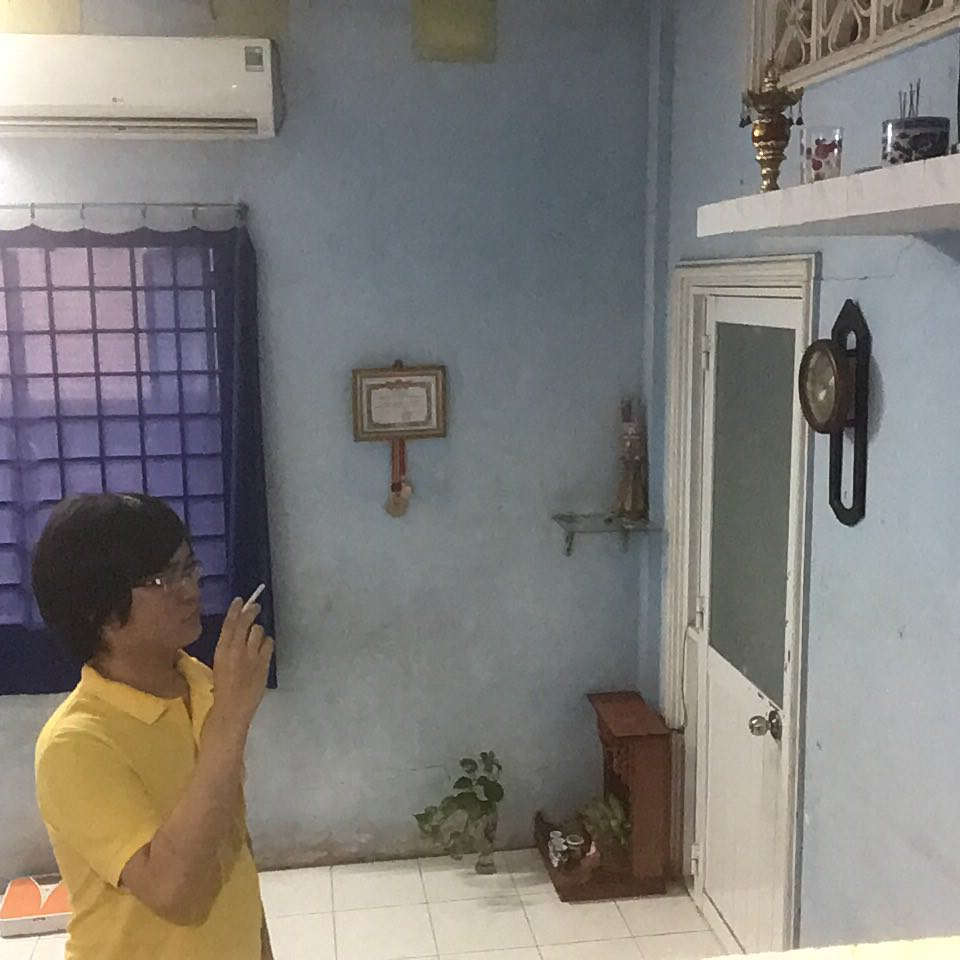cigarette: (244, 580, 270, 606)
person: (26, 491, 306, 959)
